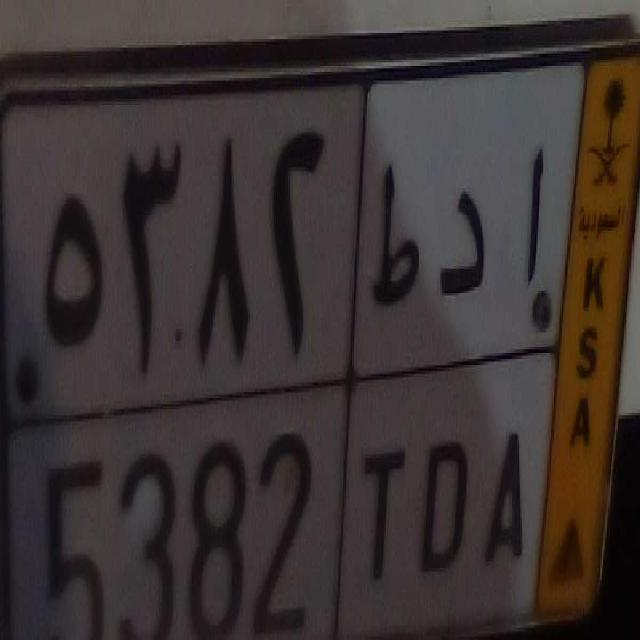license_plate: (14, 384, 545, 640)
